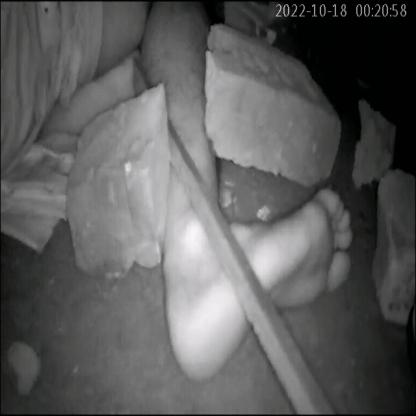leg: (147, 139, 363, 393)
